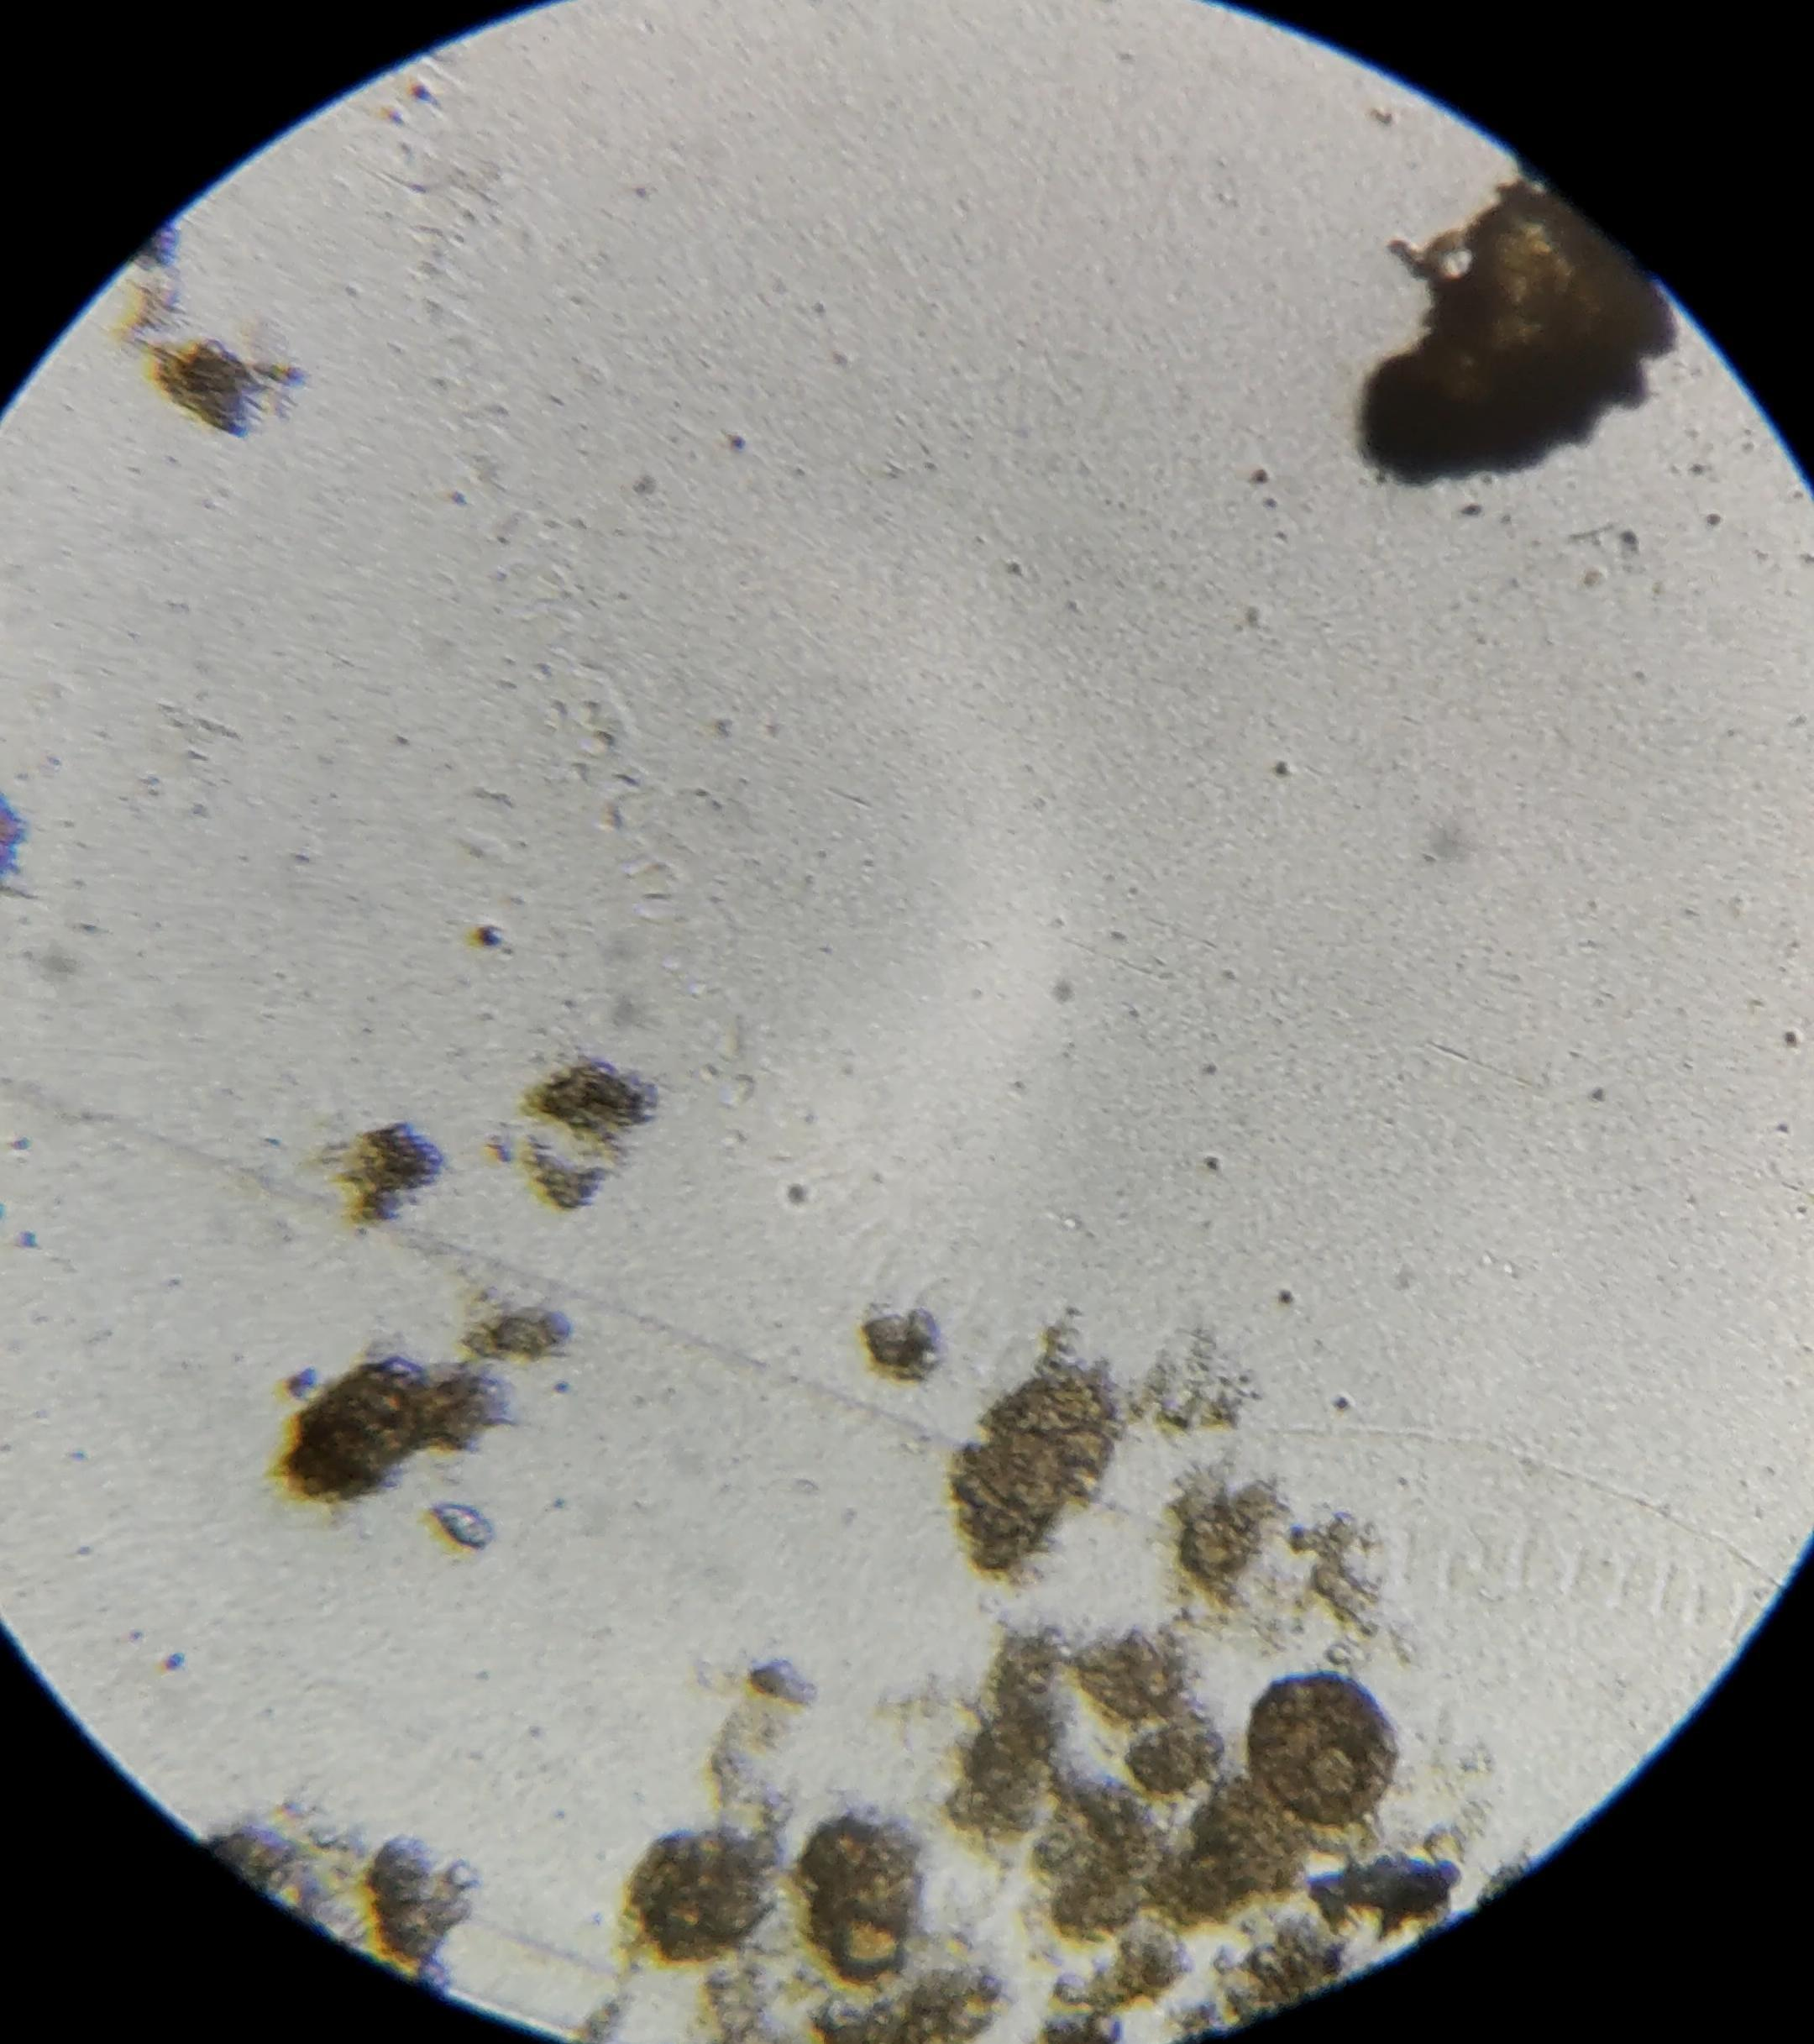Arcella: (1250, 1674, 1392, 1827)
